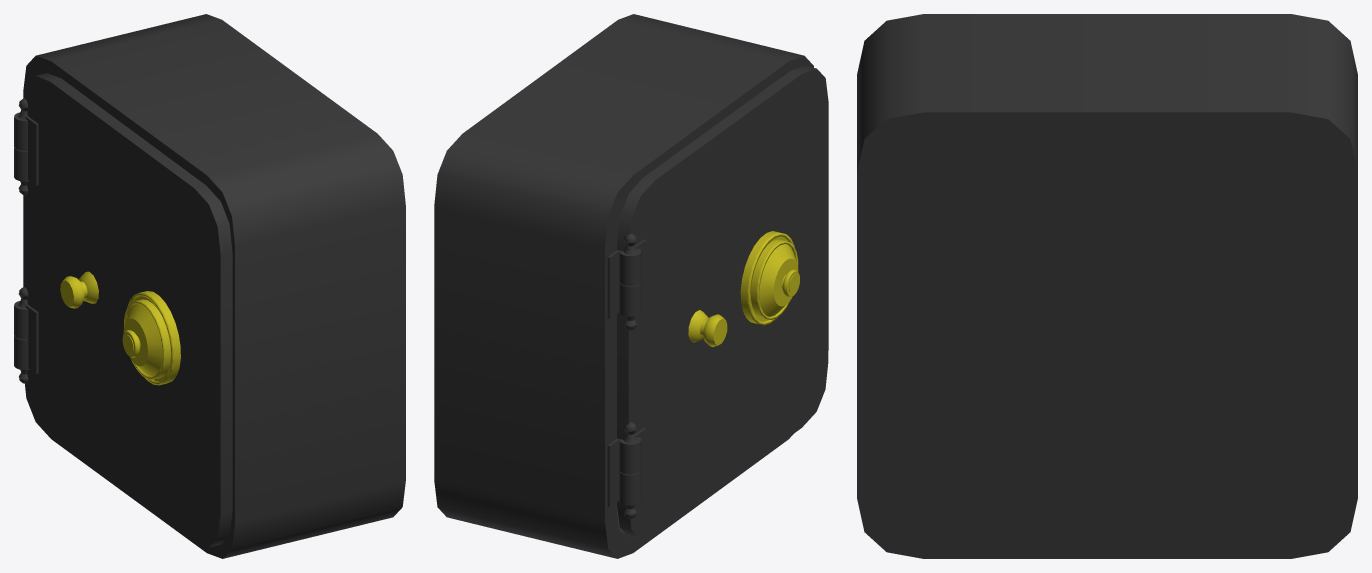
File: cajafuerte.fbx
The picture shows the model from 3 angles, left to right: view 1: azimuth 30°, elevation 25°; view 2: azimuth 150°, elevation 25°; view 3: azimuth 270°, elevation 25°; orthographic projection. The views are drawn at different scales.
Parts seen in each view (by area): view 1: CajaFuerte, PuertaCaja; view 2: CajaFuerte, PuertaCaja; view 3: CajaFuerte.
Boxes of the visible parts, x1,y1,x2,y2 form: CajaFuerte: (14,14,405,558); PuertaCaja: (23,73,232,547); CajaFuerte: (434,14,813,558); PuertaCaja: (617,65,828,539); CajaFuerte: (857,14,1357,558).
Bounding box in the file's own units: 50.42 × 85.59 × 87.01.
